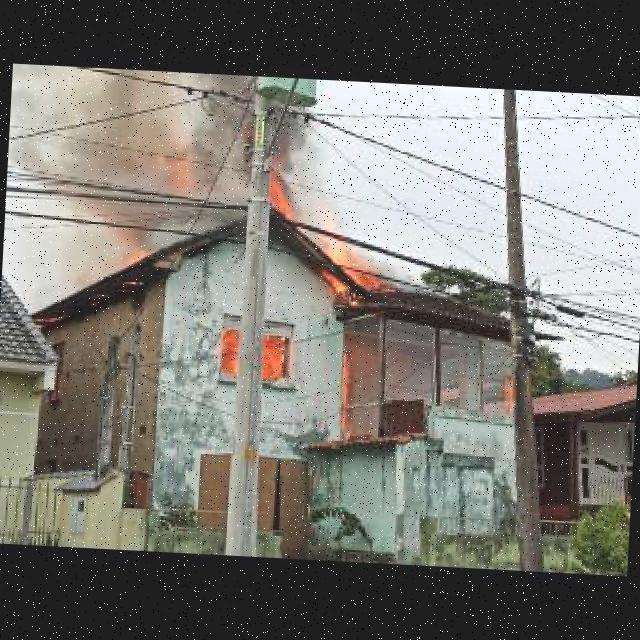Fire: (308, 214, 408, 310), (259, 333, 291, 379), (270, 170, 298, 222), (338, 351, 354, 434), (221, 328, 241, 377), (126, 245, 154, 262)
Smoke: (41, 76, 335, 244)
